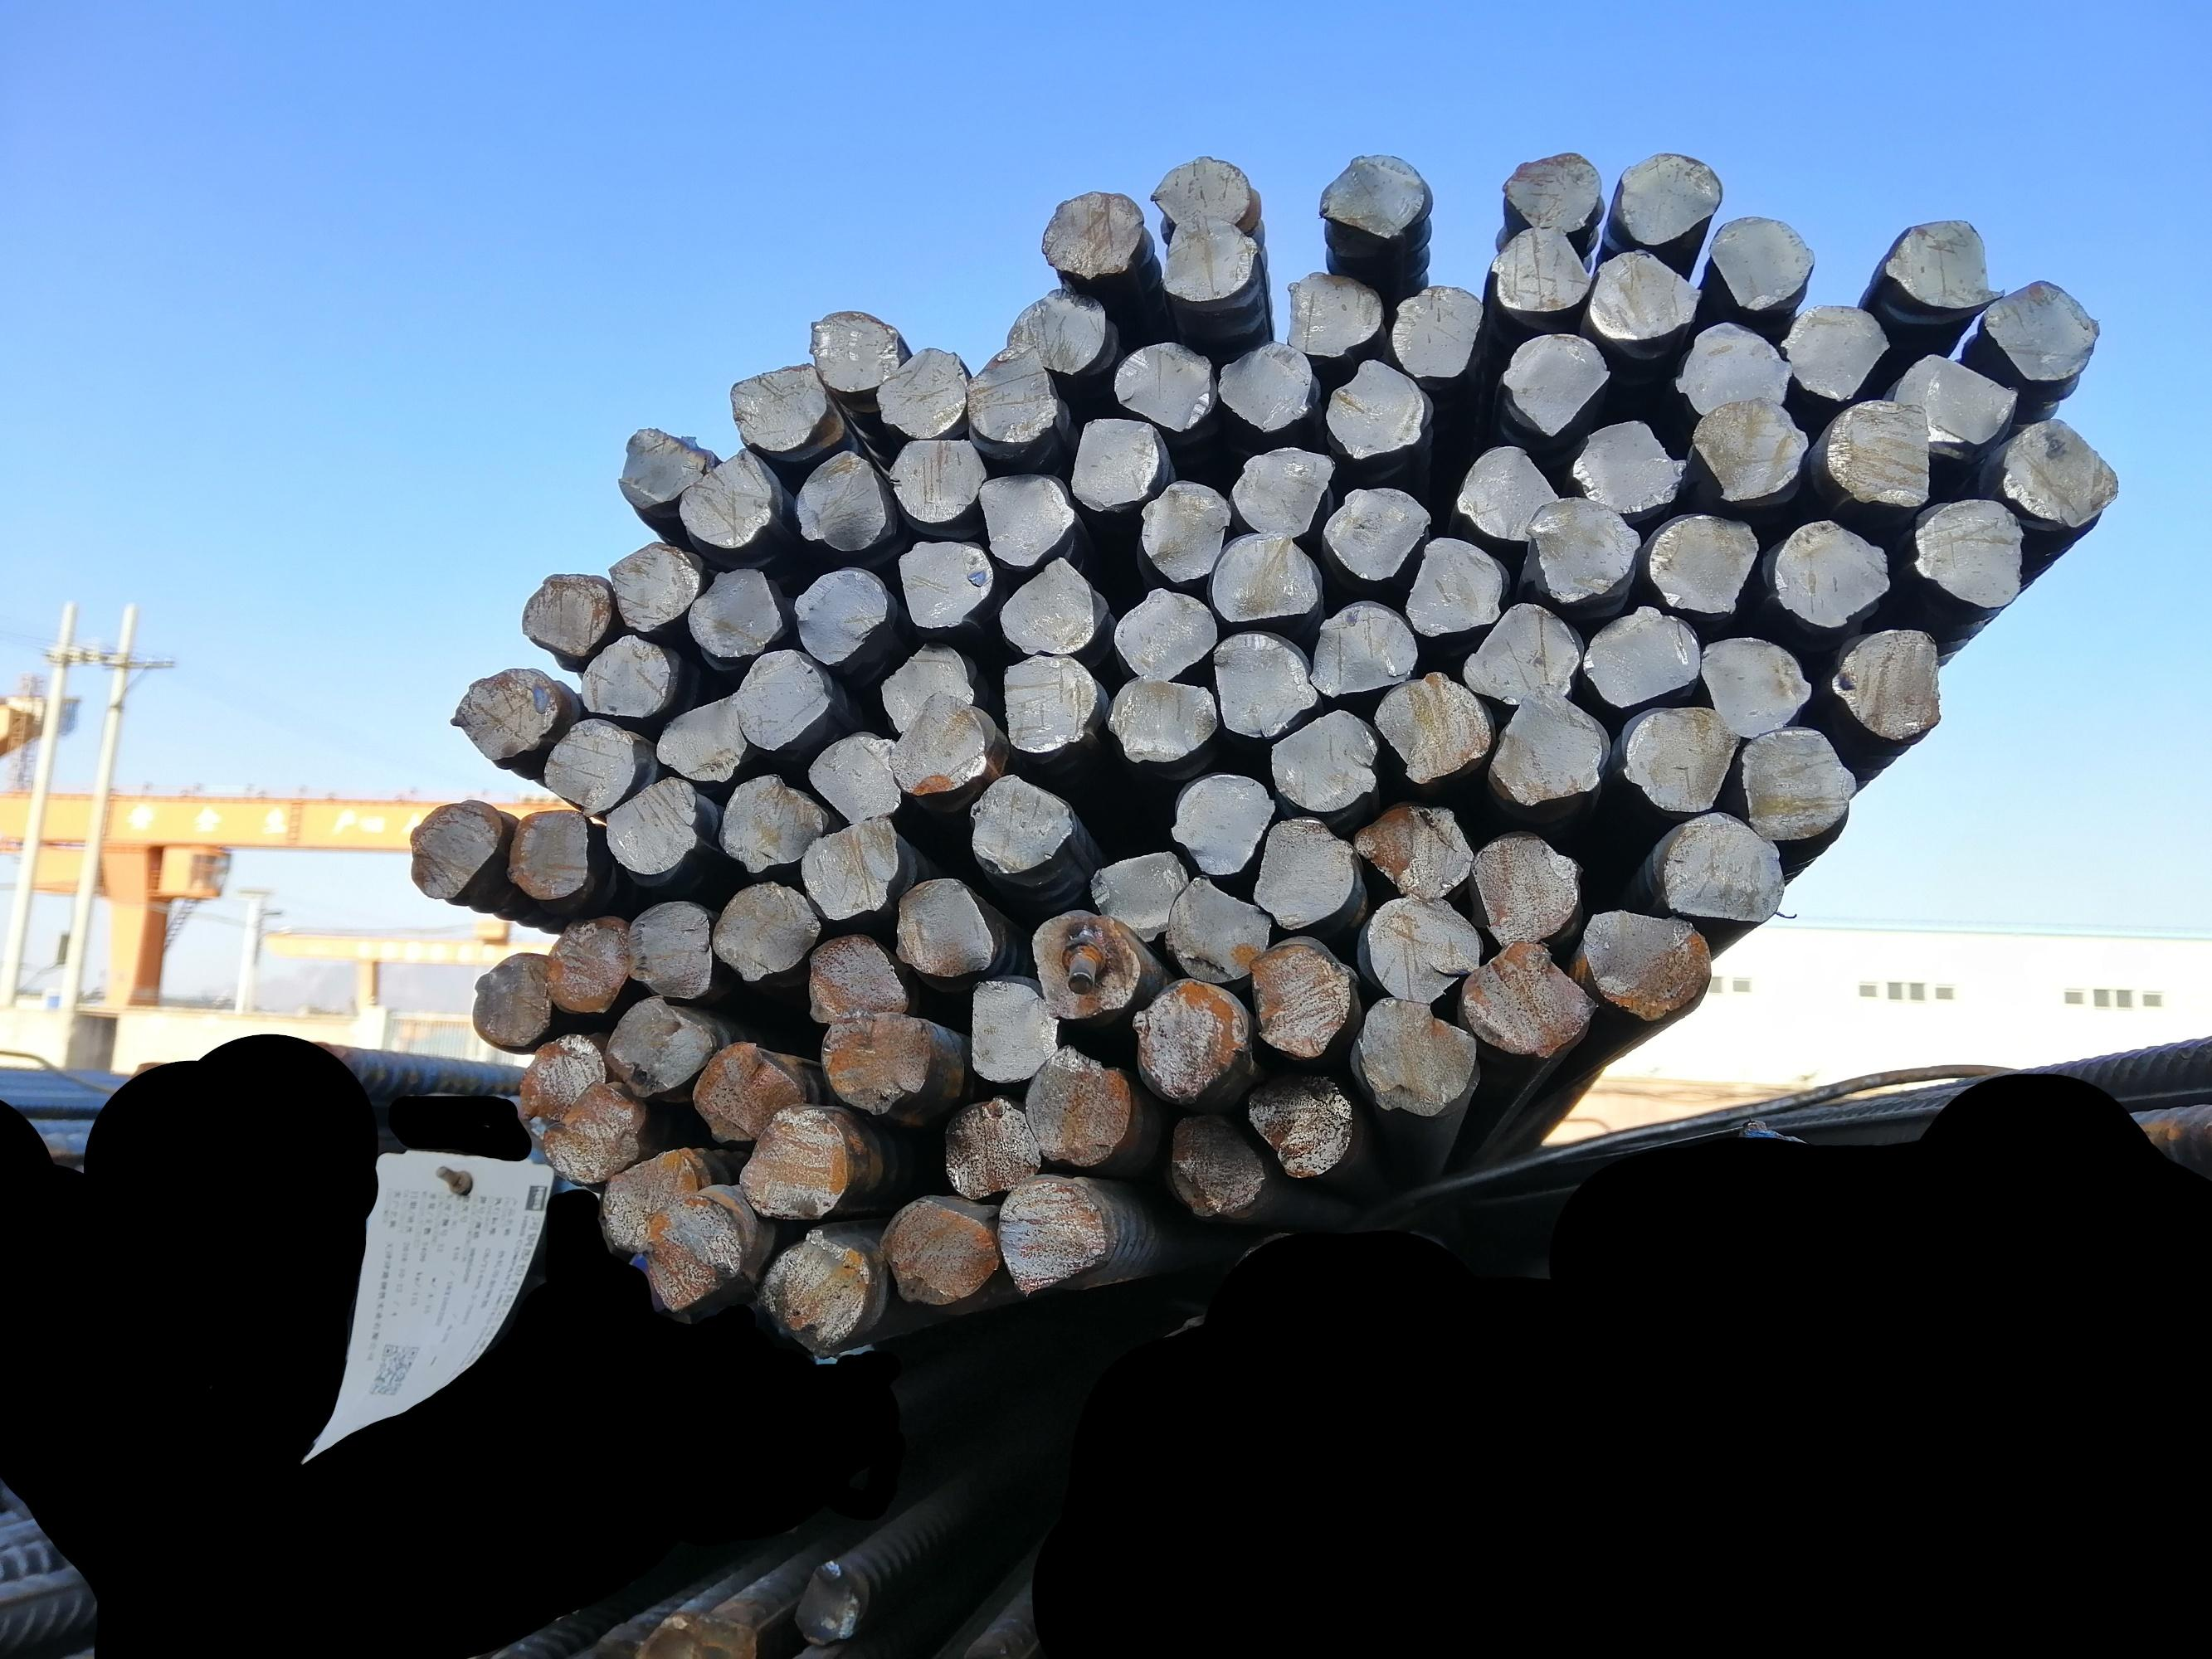bar: (1656, 803, 1792, 930), (1581, 900, 1717, 1023), (1352, 991, 1479, 1117), (1461, 938, 1595, 1058), (1907, 489, 2029, 619), (754, 1226, 872, 1358), (1484, 679, 1605, 806), (1128, 975, 1249, 1104), (1022, 900, 1145, 1025), (1016, 1037, 1131, 1169), (1978, 269, 2107, 385), (878, 1186, 998, 1309), (1352, 887, 1479, 1003), (1999, 412, 2127, 528), (1890, 337, 2017, 451), (1739, 723, 1855, 845), (1568, 407, 1691, 523), (996, 1170, 1104, 1299), (1160, 868, 1278, 987), (1820, 388, 1939, 506), (1371, 675, 1496, 786), (1674, 306, 1791, 423), (1830, 624, 1946, 742), (1688, 391, 1805, 506), (735, 1102, 854, 1217), (1497, 326, 1617, 439), (1695, 630, 1813, 744), (817, 1005, 933, 1119), (1207, 625, 1321, 742), (1645, 504, 1758, 620), (1245, 941, 1355, 1059), (1873, 207, 1999, 309), (1775, 516, 1888, 630), (1586, 599, 1702, 710), (1471, 831, 1581, 948), (1627, 699, 1737, 816), (1244, 1068, 1355, 1183), (1464, 597, 1580, 708), (1523, 494, 1639, 605), (637, 1196, 743, 1314), (1108, 581, 1225, 686), (1399, 533, 1512, 641), (1220, 441, 1343, 540), (1455, 443, 1569, 549), (723, 355, 837, 460), (1355, 800, 1473, 902), (889, 868, 995, 982), (535, 1078, 646, 1185), (449, 660, 561, 766), (689, 1037, 801, 1142), (1781, 296, 1894, 401), (705, 878, 820, 981), (1253, 818, 1356, 932), (1157, 1112, 1268, 1217), (938, 1094, 1045, 1201), (989, 558, 1105, 656), (799, 816, 907, 922), (1107, 665, 1220, 766), (791, 443, 889, 557), (963, 776, 1078, 874), (1587, 247, 1702, 345), (1264, 713, 1376, 812), (883, 689, 991, 792), (1617, 144, 1725, 247), (1703, 207, 1813, 308), (1320, 358, 1431, 458), (714, 771, 826, 870), (1308, 602, 1422, 699), (1165, 768, 1269, 873), (962, 343, 1069, 445), (962, 970, 1059, 1083), (605, 990, 709, 1095), (597, 776, 704, 878), (1110, 333, 1219, 432), (1315, 153, 1431, 246), (870, 343, 976, 445), (1279, 266, 1390, 363), (534, 713, 637, 816), (972, 466, 1074, 572), (734, 648, 837, 751), (996, 646, 1098, 750), (1000, 285, 1113, 379), (894, 534, 1001, 634), (1060, 407, 1162, 509), (1083, 845, 1191, 941), (1212, 528, 1322, 622), (403, 797, 504, 900), (1325, 484, 1430, 582), (786, 565, 891, 663), (599, 540, 705, 637), (598, 1151, 707, 1245), (1133, 476, 1226, 585), (802, 726, 904, 825), (541, 914, 636, 1020), (680, 562, 782, 659), (803, 932, 909, 1025), (626, 893, 717, 1001), (1039, 181, 1141, 277), (1147, 149, 1258, 236), (675, 449, 772, 547), (889, 433, 992, 526), (881, 638, 977, 737), (514, 1038, 607, 1137), (467, 948, 557, 1052), (654, 693, 750, 790), (1503, 147, 1603, 238), (1218, 342, 1318, 432), (1492, 221, 1593, 310), (567, 638, 675, 718), (1156, 214, 1256, 300), (807, 300, 901, 392), (1388, 285, 1476, 382), (506, 806, 596, 901), (610, 427, 714, 508), (515, 577, 625, 654)
